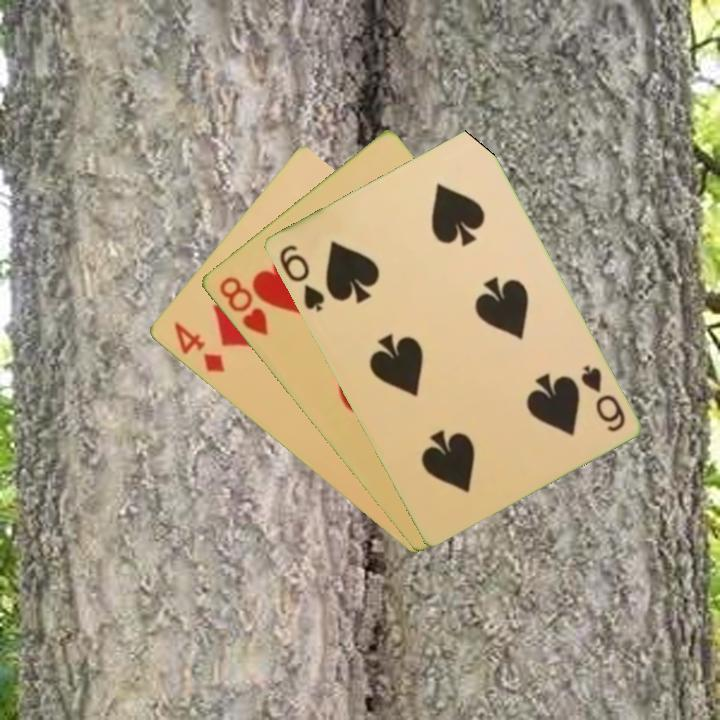4d: (169, 318, 228, 376)
6s: (275, 240, 327, 314), (576, 361, 628, 435)
8h: (215, 272, 271, 338)
